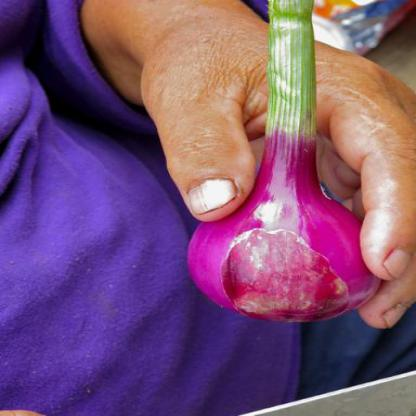knife: (0, 340, 415, 416)
